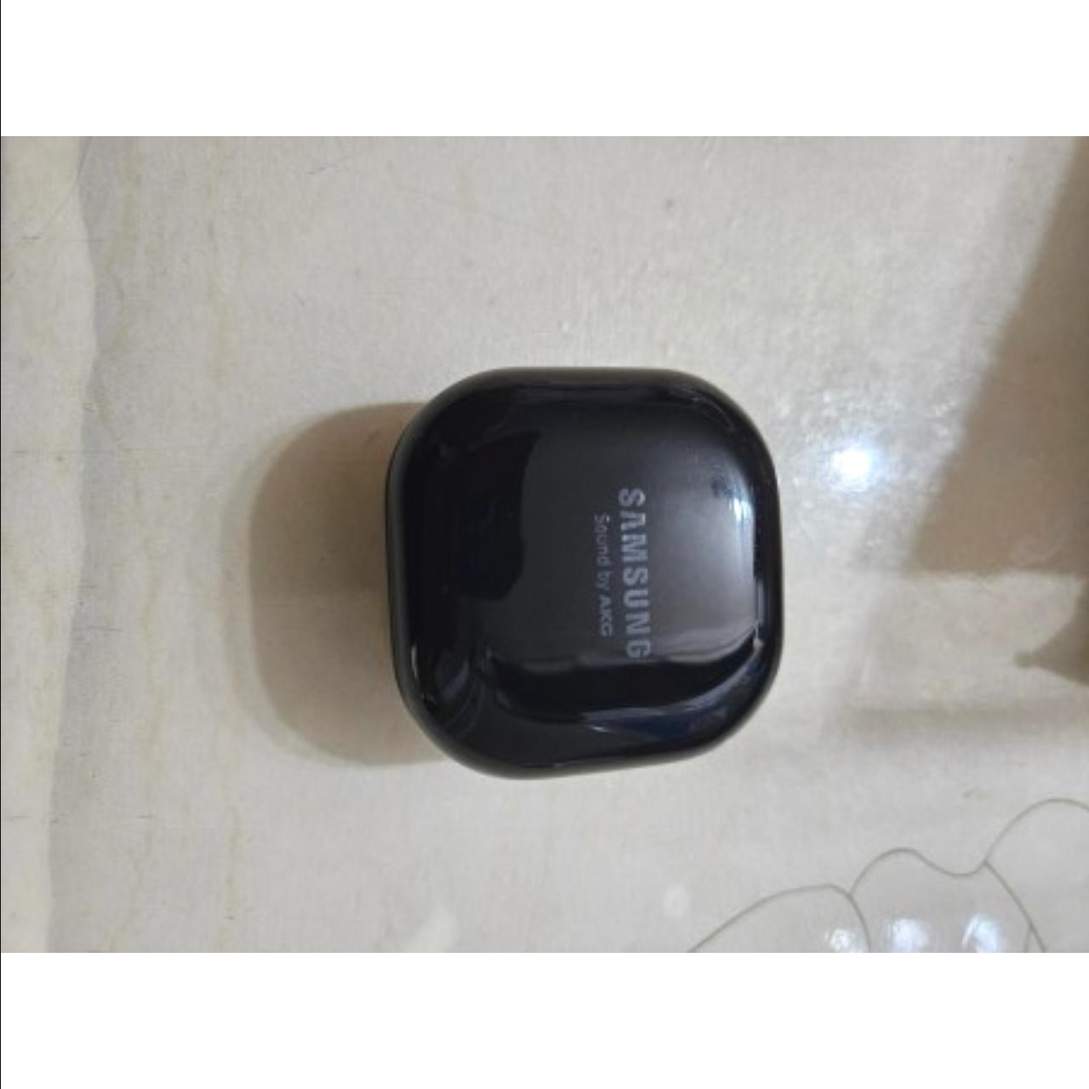Buds: (372, 360, 792, 787)
